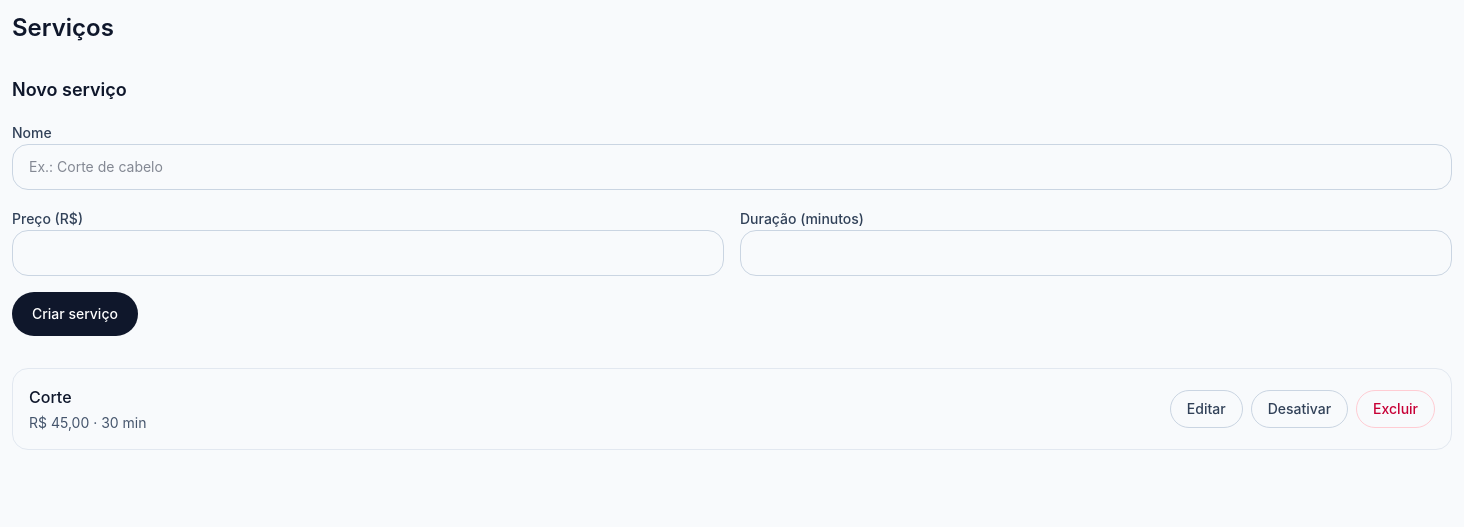
Test: services manager (mounted, injected fetch deps) › shows the client-side PT-BR error and does not fetch on an invalid create
Click the button "Criar serviço".
click(75, 314)  # box [12,292,138,336]
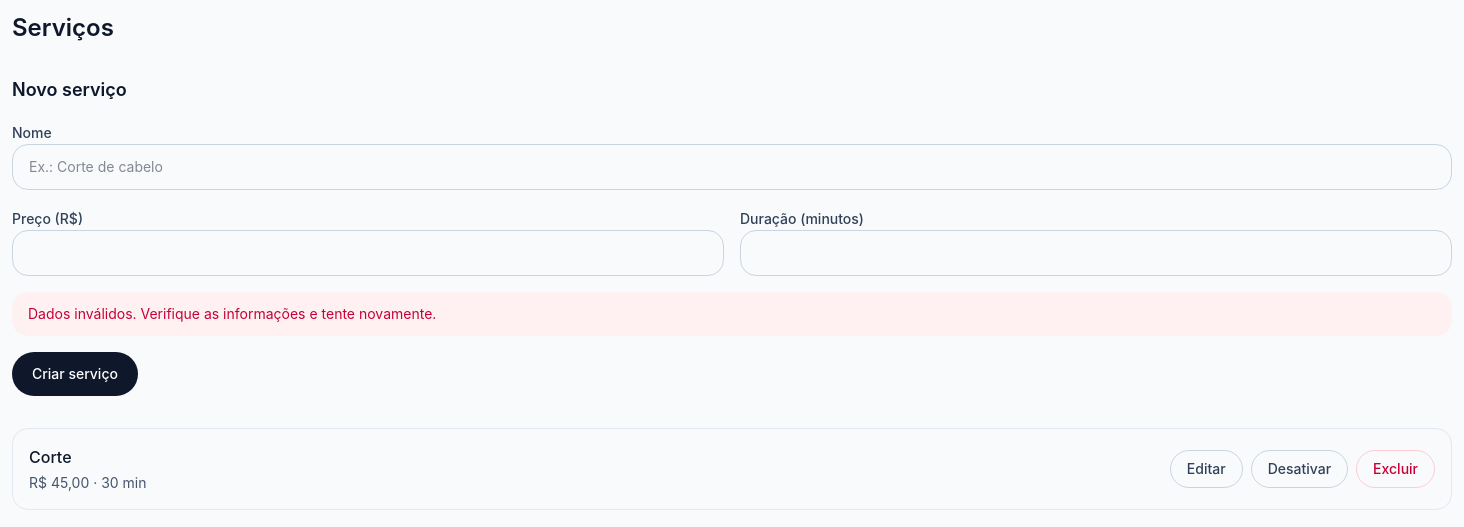
Expected: the text "Dados inválidos. Verifique as informações e tente novamente." is shown, [12,292,1452,336]
